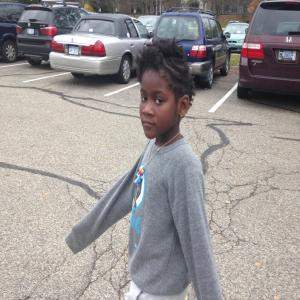Vehicle-registration-plate: (279, 49, 297, 62), (69, 46, 80, 57), (28, 29, 36, 36)
